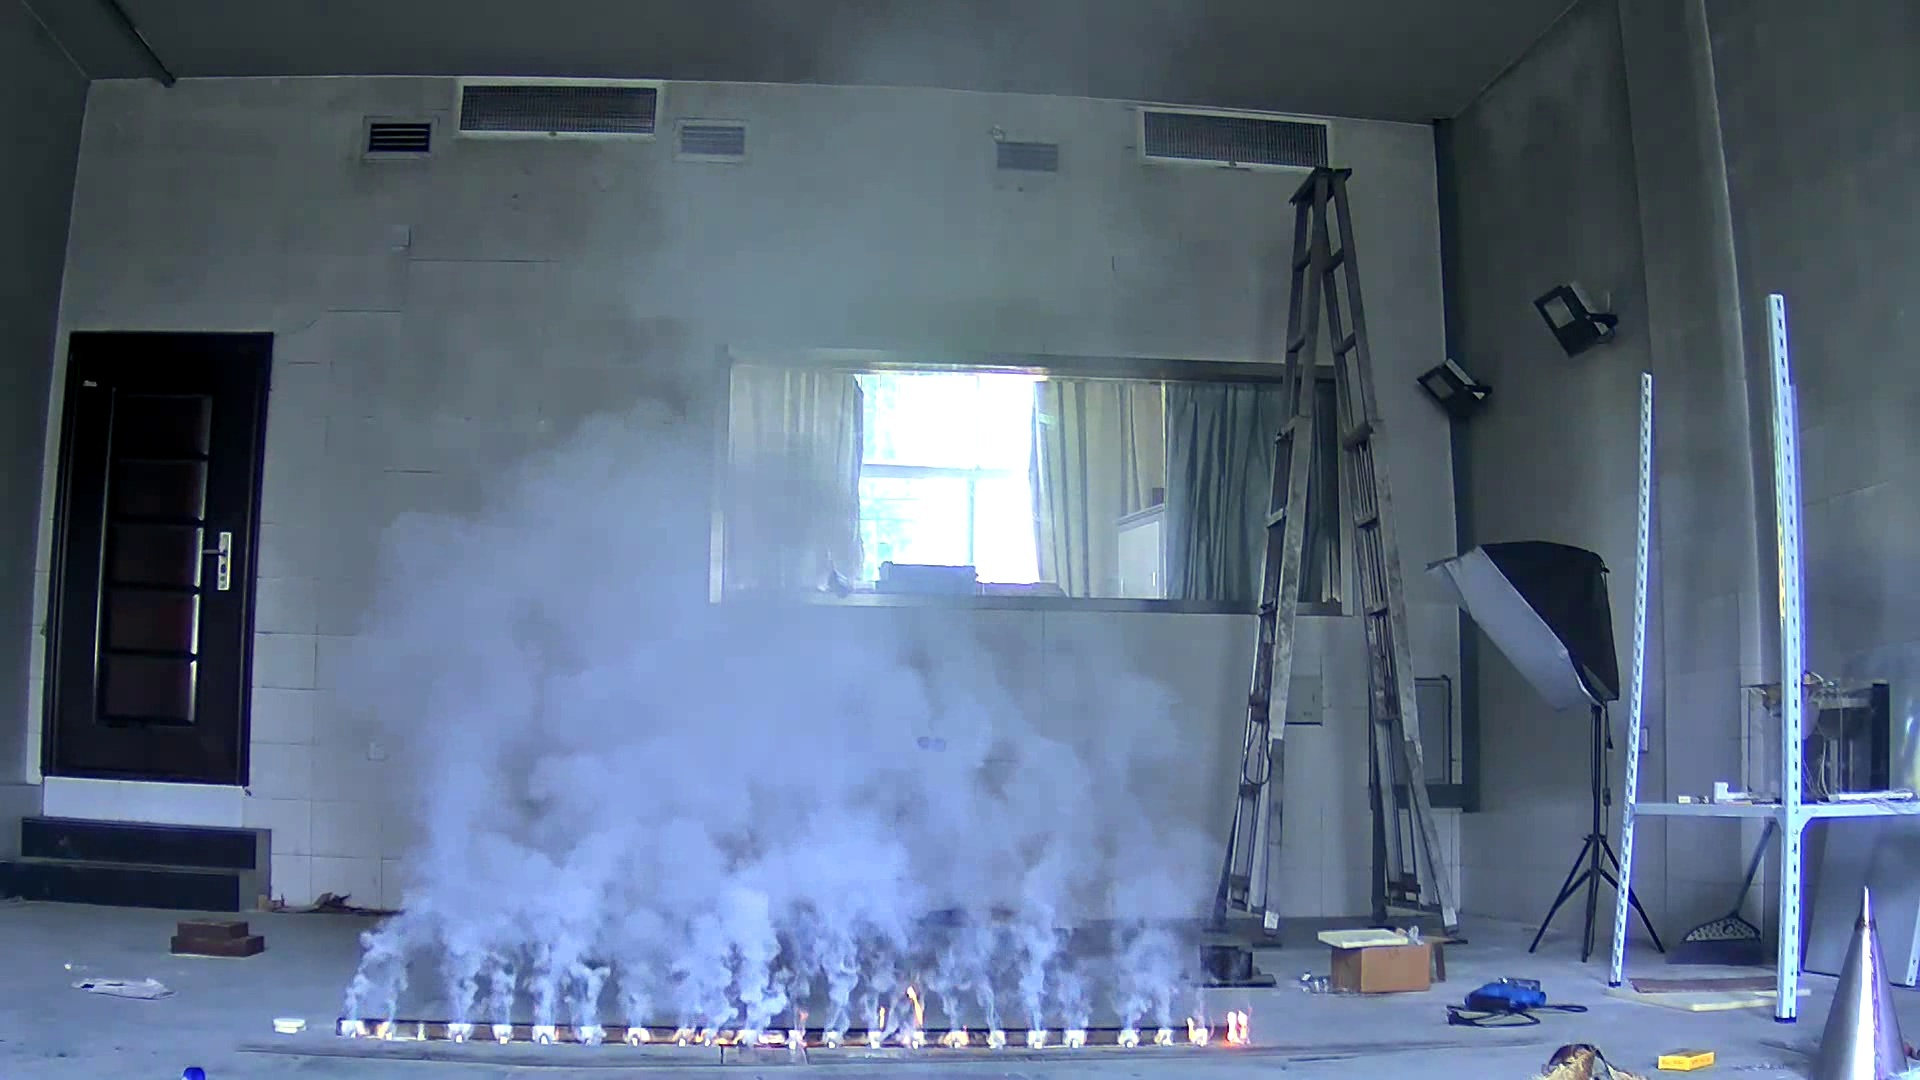smoke: (331, 393, 1229, 1030)
